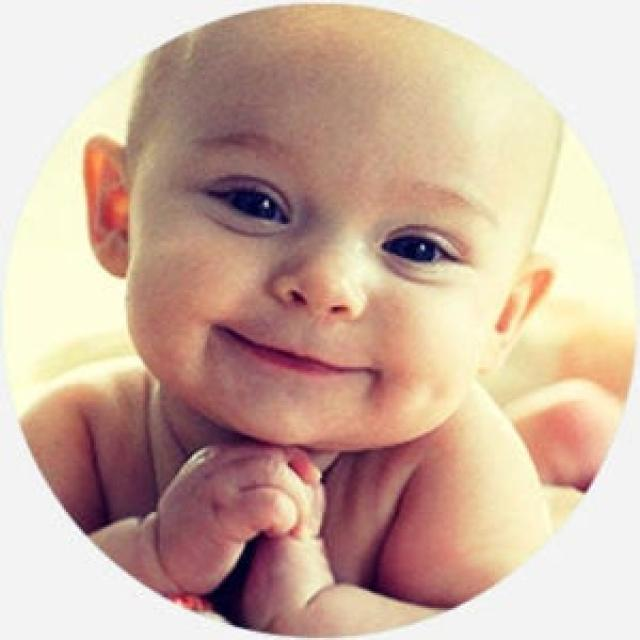non-dog: (22, 0, 631, 632)
